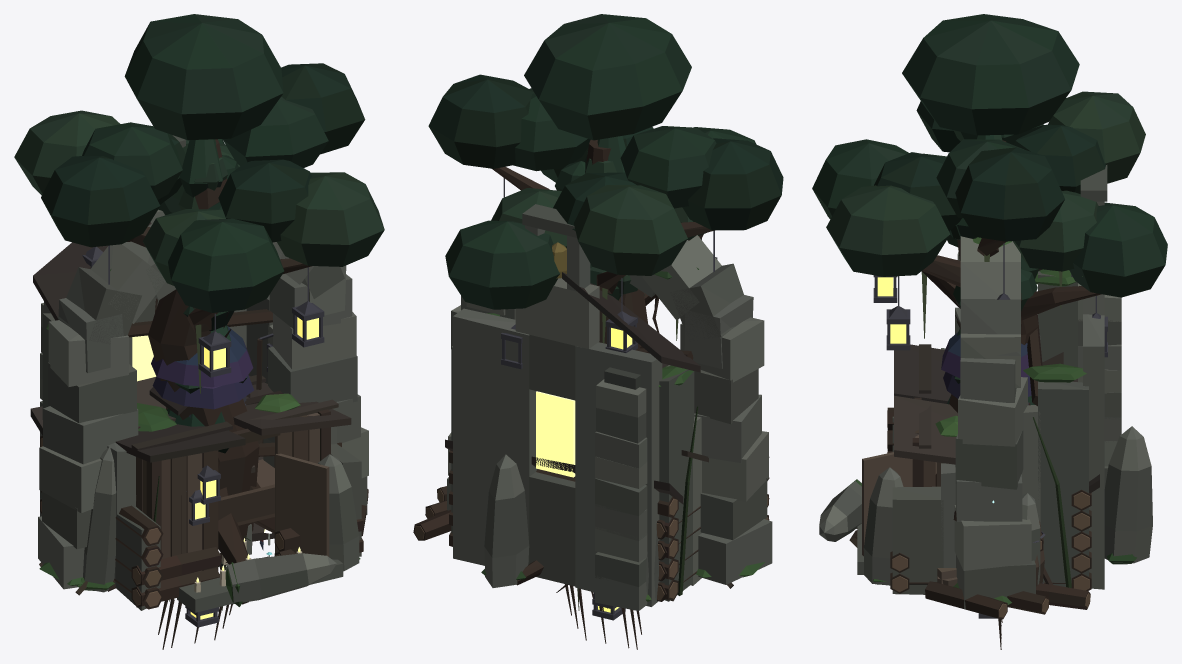
The model's file is darkforest.glb.
3 views of the same model, side by side, from view 1: azimuth 30°, elevation 25°; view 2: azimuth 150°, elevation 25°; view 3: azimuth 270°, elevation 25° (orthographic).
Parts seen in each view (by area): view 1: darkforest_lantern_tree_a, darkforest_mossy_arch_a, darkforest_abandoned_shed_a, darkforest_forest_chapel_a, darkforest_stone_circle_a, darkforest_collapsed_cabin_a, darkforest_overgrown_wagon_a, darkforest_dark_fir_tree_a, darkforest_giant_glowshroom_b, darkforest_giant_glowshroom_a, darkforest_woodcutter_camp_a, darkforest_gnarled_tree_b (+1 smaller); view 2: darkforest_lantern_tree_a, darkforest_forest_chapel_a, darkforest_mossy_arch_a, darkforest_collapsed_cabin_a, darkforest_stone_circle_a, darkforest_gnarled_tree_b, darkforest_dark_fir_tree_a, darkforest_root_drape_b; view 3: darkforest_lantern_tree_a, darkforest_forest_chapel_a, darkforest_mossy_arch_a, darkforest_stone_circle_a, darkforest_collapsed_cabin_a, darkforest_abandoned_shed_a, darkforest_giant_glowshroom_b, darkforest_gnarled_tree_a.
Part boxes in pixels (x1,y1,x2,y2): darkforest_lantern_tree_a: (14,14,384,604); darkforest_mossy_arch_a: (38,223,368,589); darkforest_abandoned_shed_a: (115,375,351,572); darkforest_forest_chapel_a: (33,135,361,612); darkforest_stone_circle_a: (77,446,360,606); darkforest_collapsed_cabin_a: (30,303,368,609); darkforest_overgrown_wagon_a: (39,333,274,595); darkforest_dark_fir_tree_a: (167,139,234,453); darkforest_giant_glowshroom_b: (151,326,253,387); darkforest_giant_glowshroom_a: (152,375,253,409); darkforest_woodcutter_camp_a: (136,377,255,553); darkforest_gnarled_tree_b: (194,155,238,209); darkforest_lantern_tree_a: (428,14,783,585); darkforest_forest_chapel_a: (451,204,701,606); darkforest_mossy_arch_a: (447,235,772,584); darkforest_collapsed_cabin_a: (413,367,769,610); darkforest_stone_circle_a: (481,454,658,601); darkforest_gnarled_tree_b: (555,154,621,300); darkforest_dark_fir_tree_a: (597,136,625,172); darkforest_root_drape_b: (556,584,637,649); darkforest_lantern_tree_a: (812,14,1167,528); darkforest_forest_chapel_a: (857,165,1107,594); darkforest_mossy_arch_a: (953,236,1035,608); darkforest_stone_circle_a: (819,426,1152,585); darkforest_collapsed_cabin_a: (887,283,1121,619); darkforest_abandoned_shed_a: (862,344,1077,586); darkforest_giant_glowshroom_b: (941,332,1028,378); darkforest_gnarled_tree_a: (947,218,1037,311).
Bounding box in the file's own units: 3.15 × 5.65 × 2.94.
